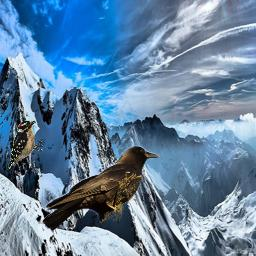Crow: (42, 143, 162, 234)
Woodpecker: (8, 120, 43, 169)
